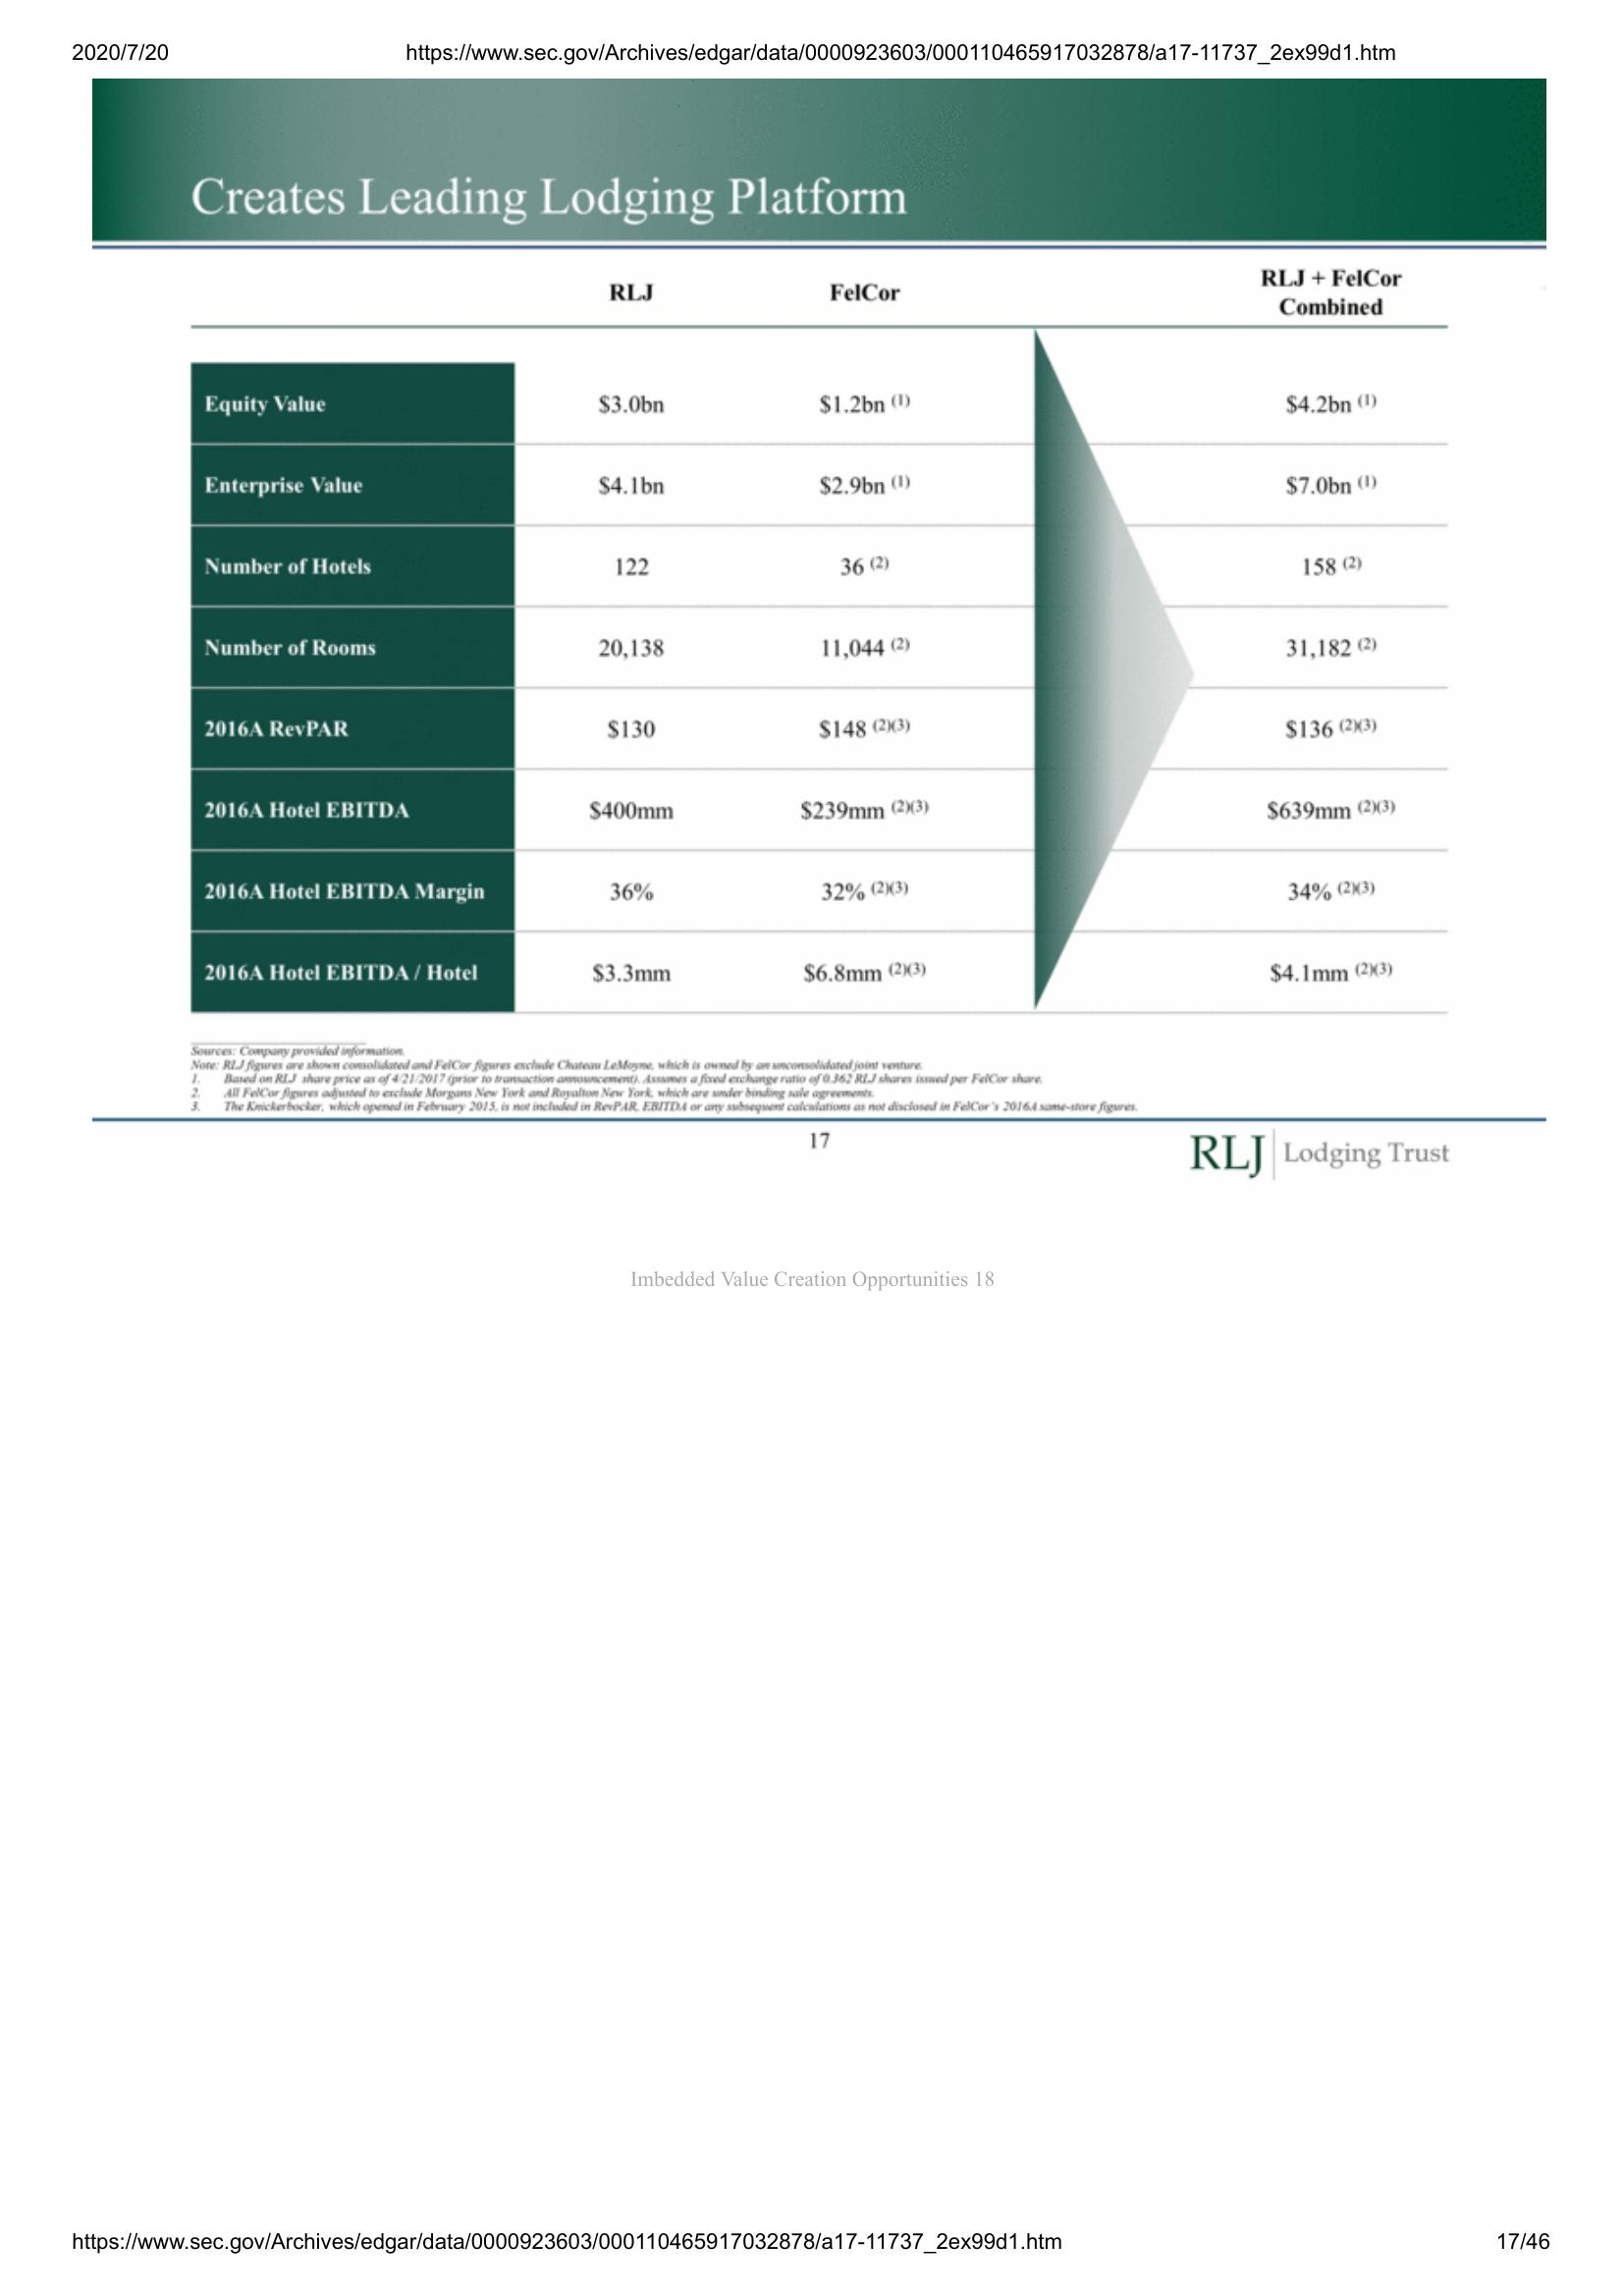table: (188, 358, 1465, 1023)
